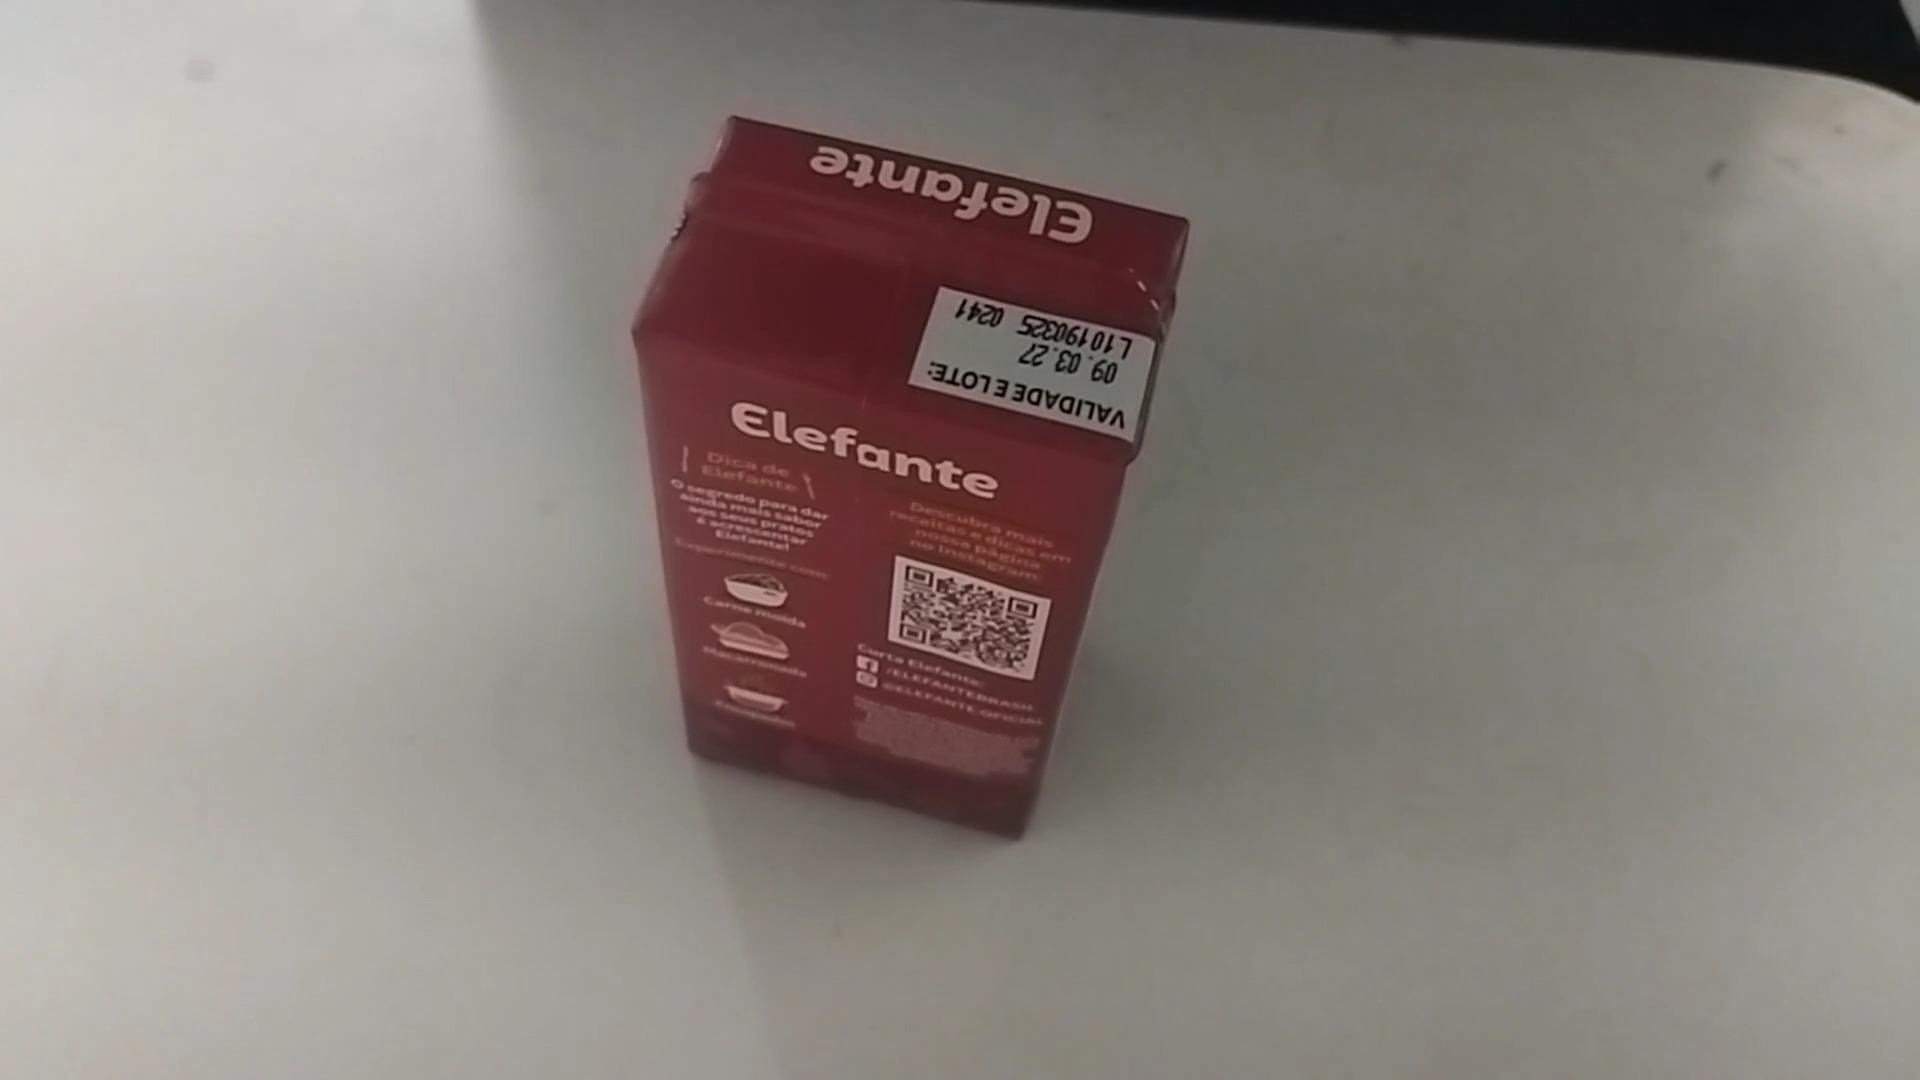tomate: (625, 104, 1199, 845)
